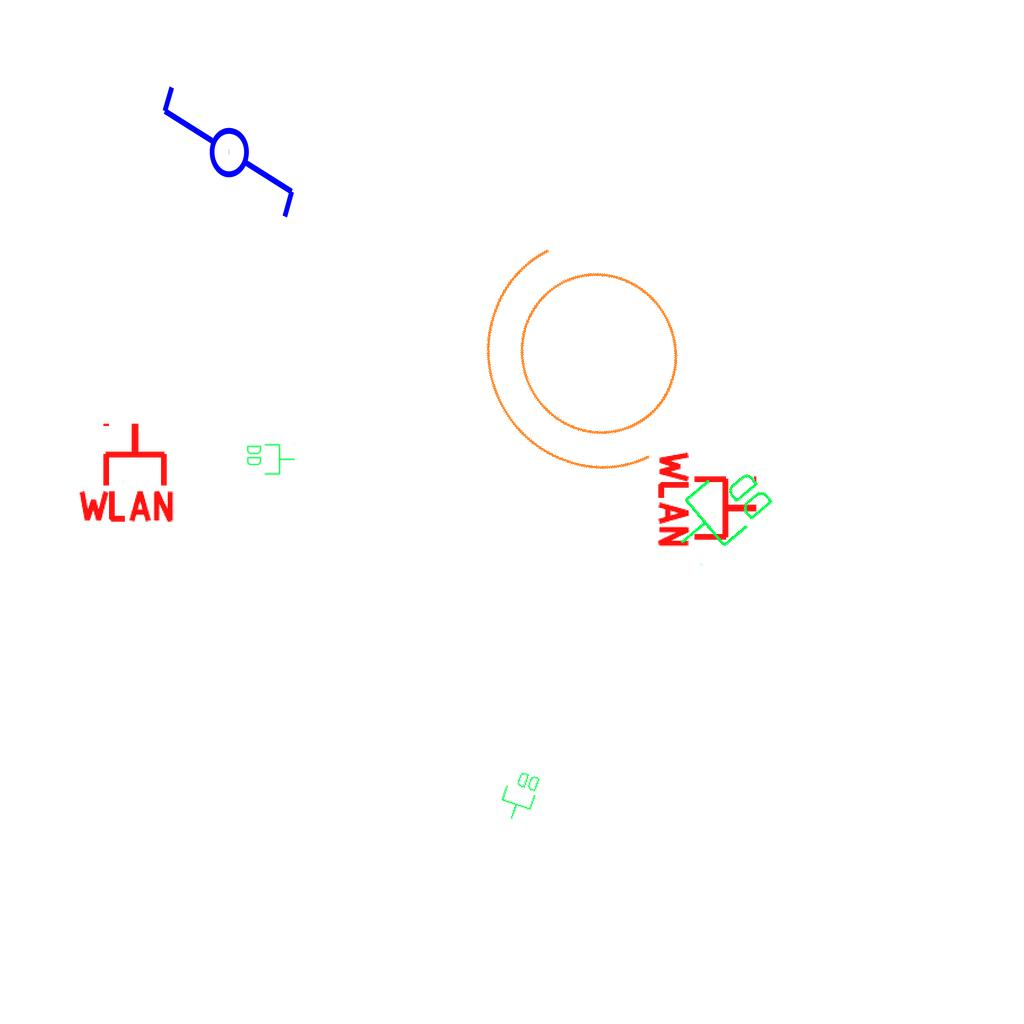Datenanschluss_zweifach: (657, 451, 782, 572), (495, 766, 544, 826), (245, 442, 296, 476)
Scheinwerfer_fuer_Alarmbeleuchtung: (434, 195, 752, 532)
WLAN: (74, 419, 178, 524), (656, 447, 761, 551)
Wechselschalter: (155, 82, 299, 239)
